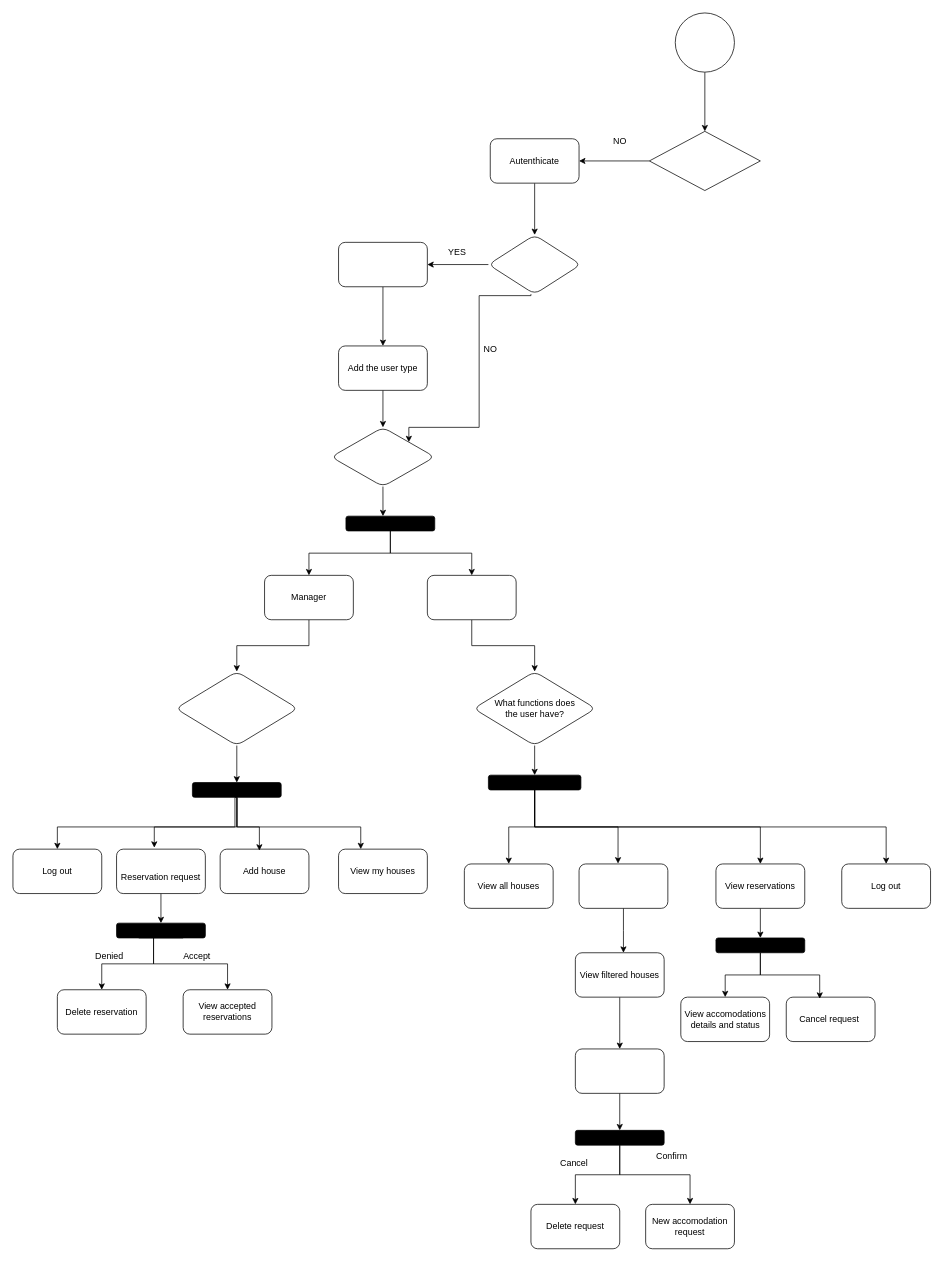
This 944x1262 diagram has some shape labels left out. Here are the shapes that lost their labels. From the top down, the centre of each, then its label:
the point at 704,161: Is user logged in?
the point at 382,264: Add additional informations
the point at 534,264: Is a new user?
the point at 382,457: What us the user type?
the point at 471,597: Client
the point at 236,708: What functions does the manager have?
the point at 623,885: Filter house by city, period and no. people
the point at 619,1070: Create request
